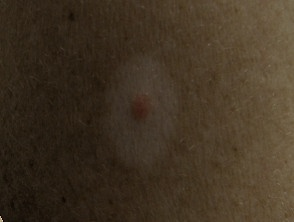vitiligo: (90, 42, 201, 188)
